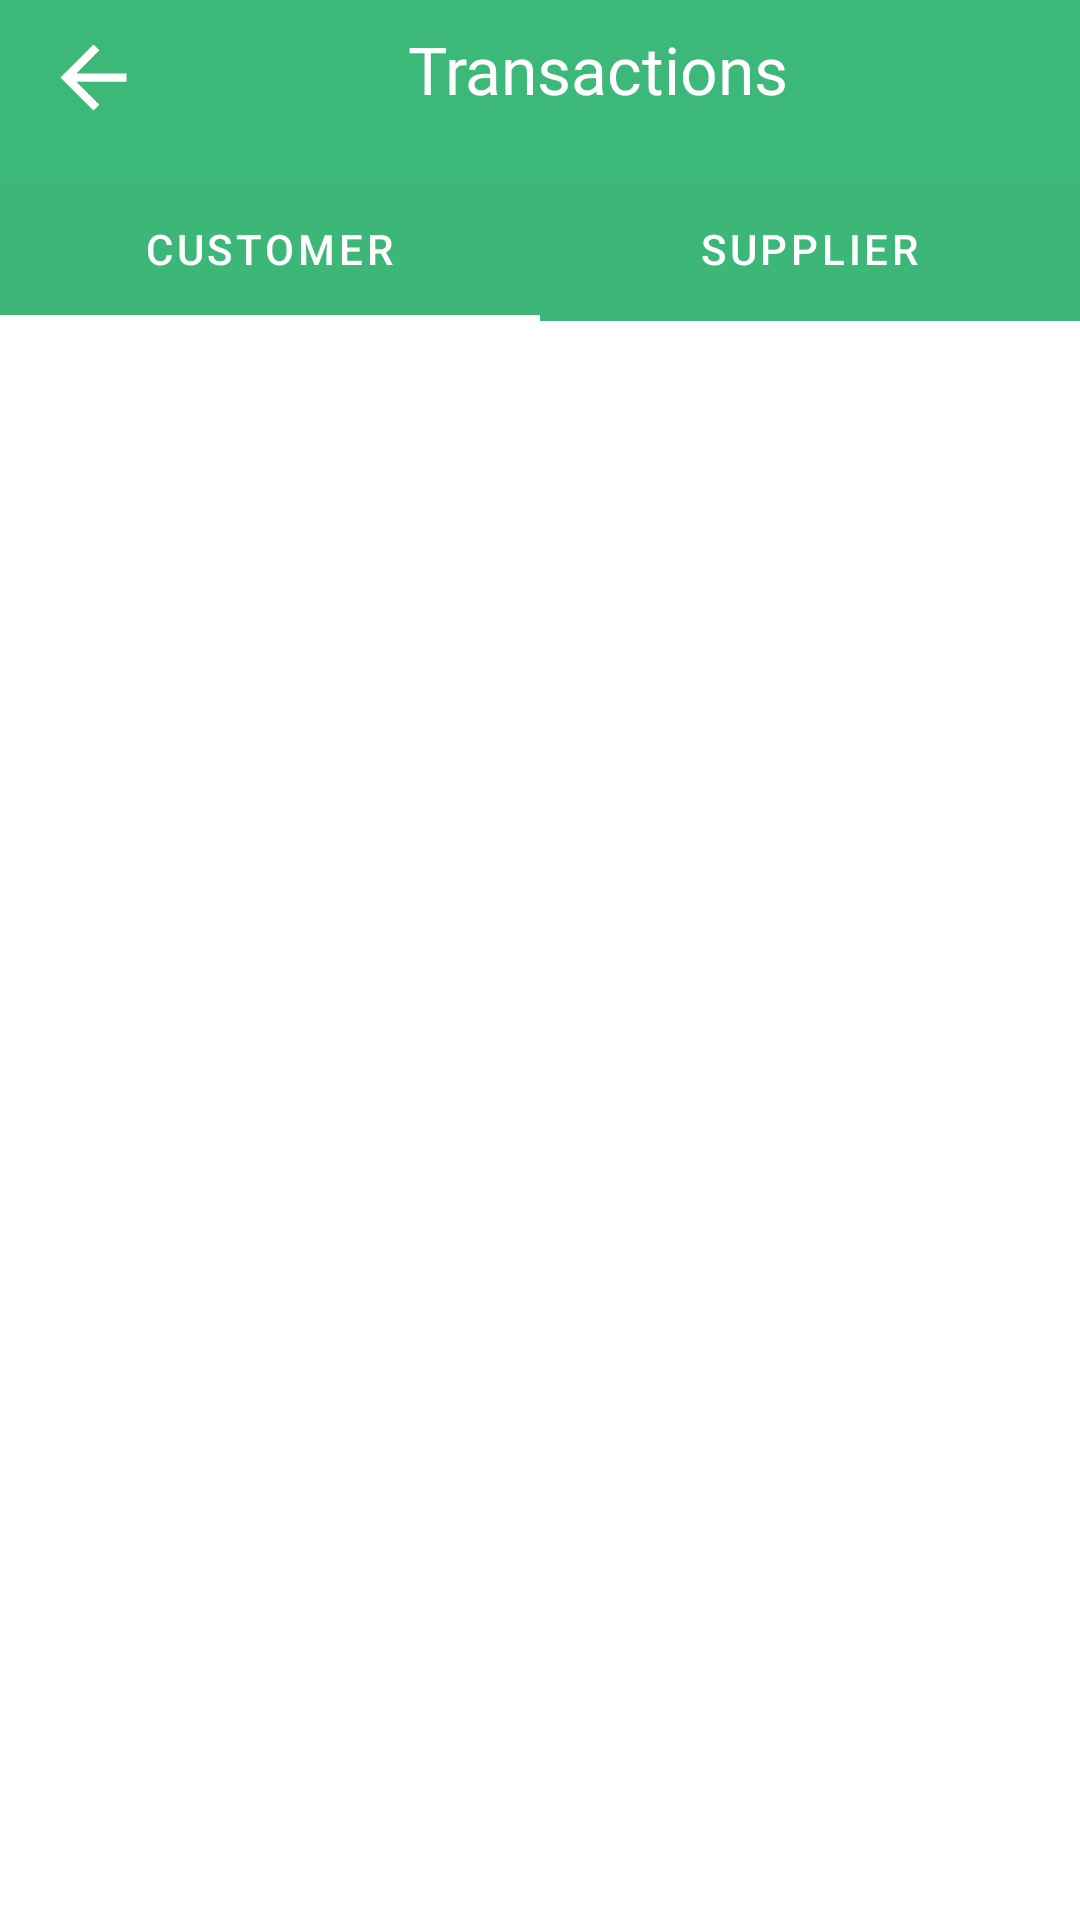

Locate icon controls on the screen. Image size 1080×1920, boxes as [x1, y1, x2, y2].
back: [60, 44, 127, 111]
